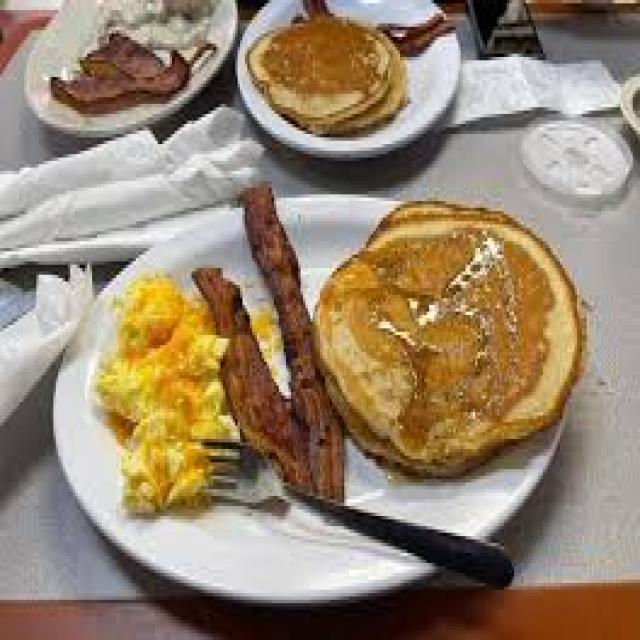Omelette: (90, 258, 232, 509)
Pancakes: (315, 191, 587, 476), (243, 17, 412, 127)
